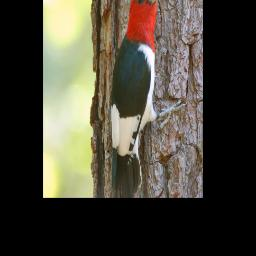Woodpecker: (109, 0, 186, 195)
